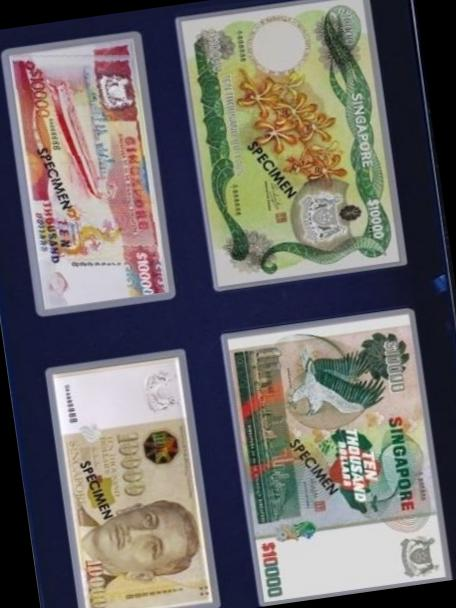10000SingaporeDollar: (10, 38, 168, 308)
